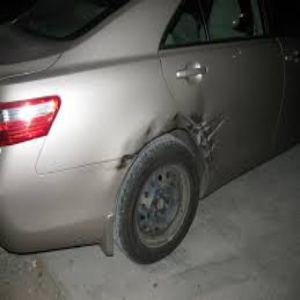door: (191, 104, 256, 159)
